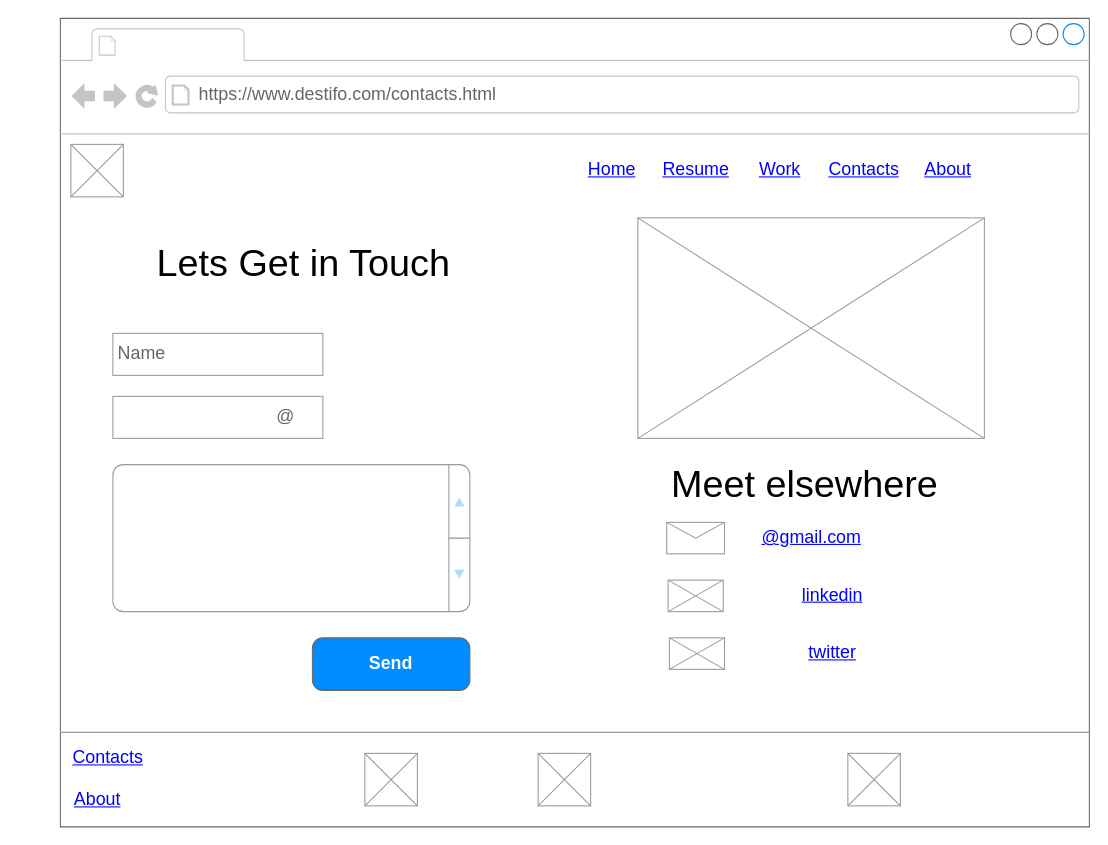
Some shapes in this 1108 by 845 pixel diagram are drawn without their labels. Here are the shapes that lost their labels. From the top down, the box of each, then its label:
(122, 30, 239, 58): Works
(112, 464, 470, 612): Message
